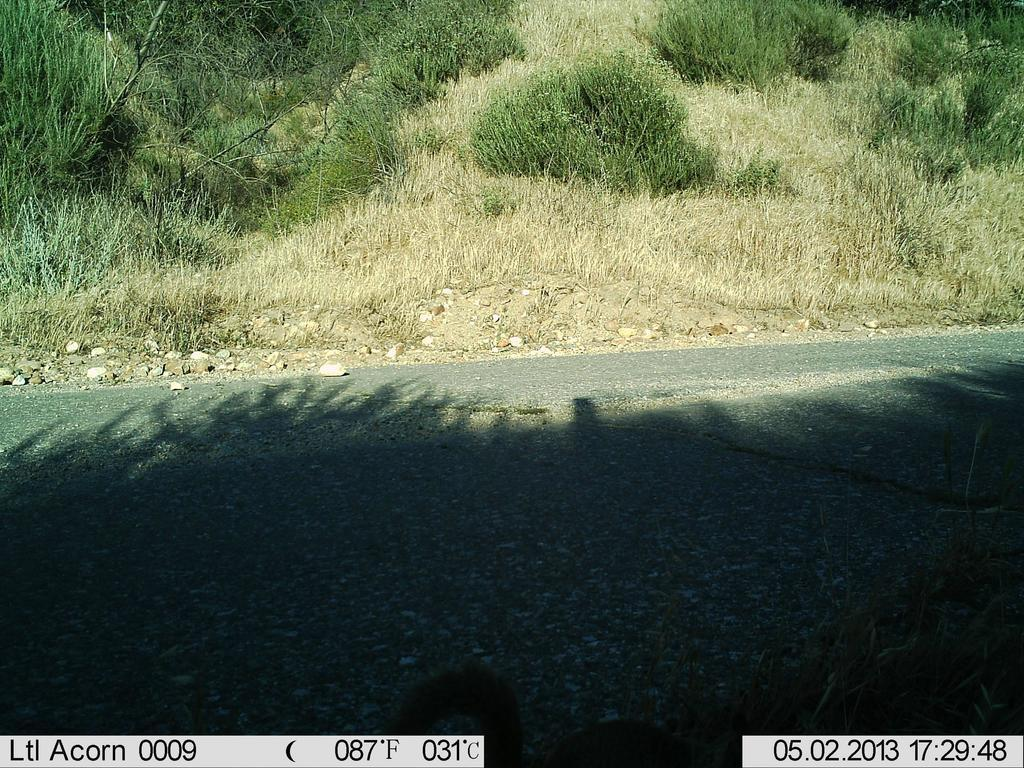squirrel: (383, 628, 711, 745)
